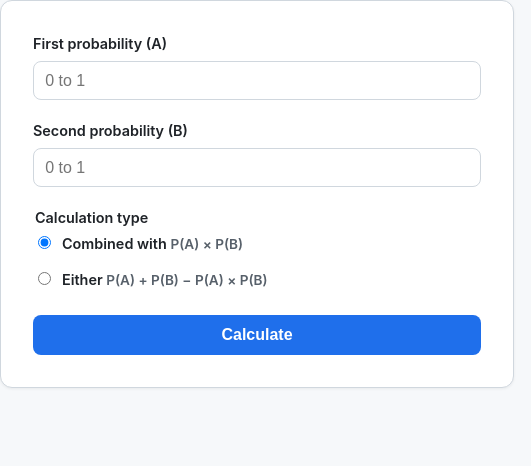
Test case: CalculatorForm › shows a friendly message when the API is unreachable
Step 1. Type "0.5" into the number field labelled "First probability (A)" → point(257, 81), box [33,61,481,100]
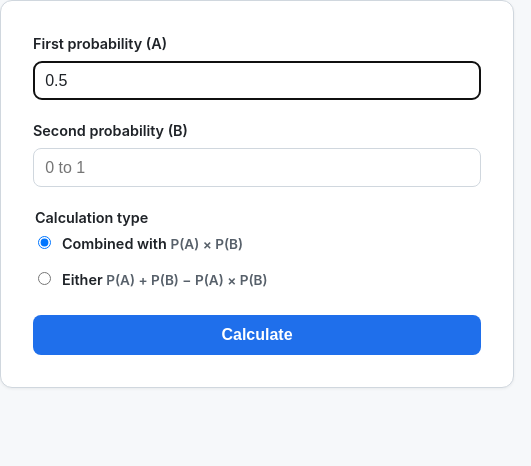
Step 2. Type "0.4" into the number field labelled "Second probability (B)" → point(257, 168), box [33,148,481,187]
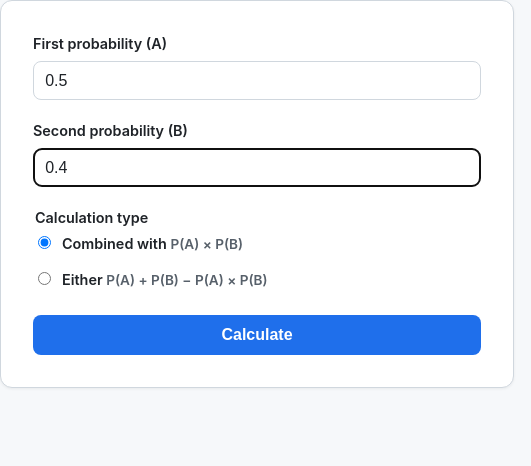
Step 3. Click the button "Calculate" → point(257, 335), box [33,315,481,355]
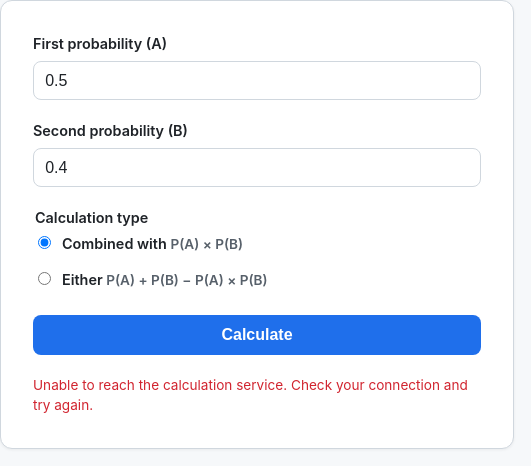
Now the text "Unable to reach the calculation service. Check your connection and try again." is shown, box [33,375,481,416]
